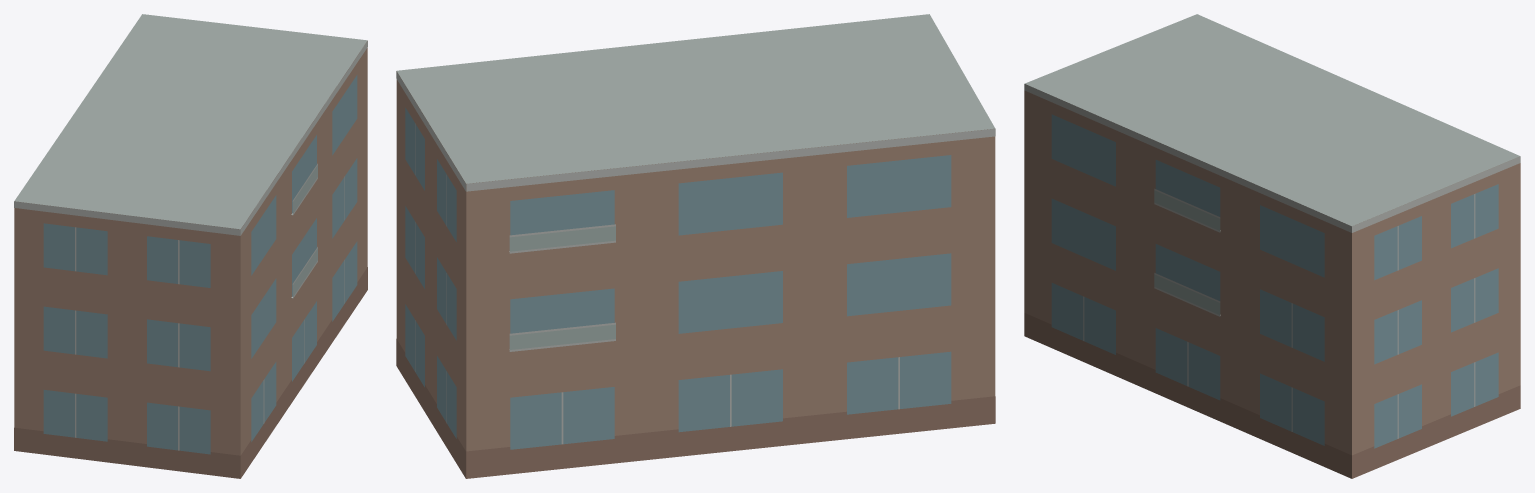
Rendered from survey-upis-32717477.glb.
3 renders of one model, left to right at view 1: azimuth 30°, elevation 25°; view 2: azimuth 150°, elevation 25°; view 3: azimuth 270°, elevation 25°, orthographic. The views are drawn at different scales.
Visible parts, largest first — view 1: survey-upis-32717477.tmp; view 2: survey-upis-32717477.tmp; view 3: survey-upis-32717477.tmp.
Boxes of the visible parts, <box> form: survey-upis-32717477.tmp: <box>14,14,367,478</box>; survey-upis-32717477.tmp: <box>396,14,995,478</box>; survey-upis-32717477.tmp: <box>1024,14,1520,478</box>.
Bounding box in the file's own units: 16.51 × 9.15 × 16.3.
